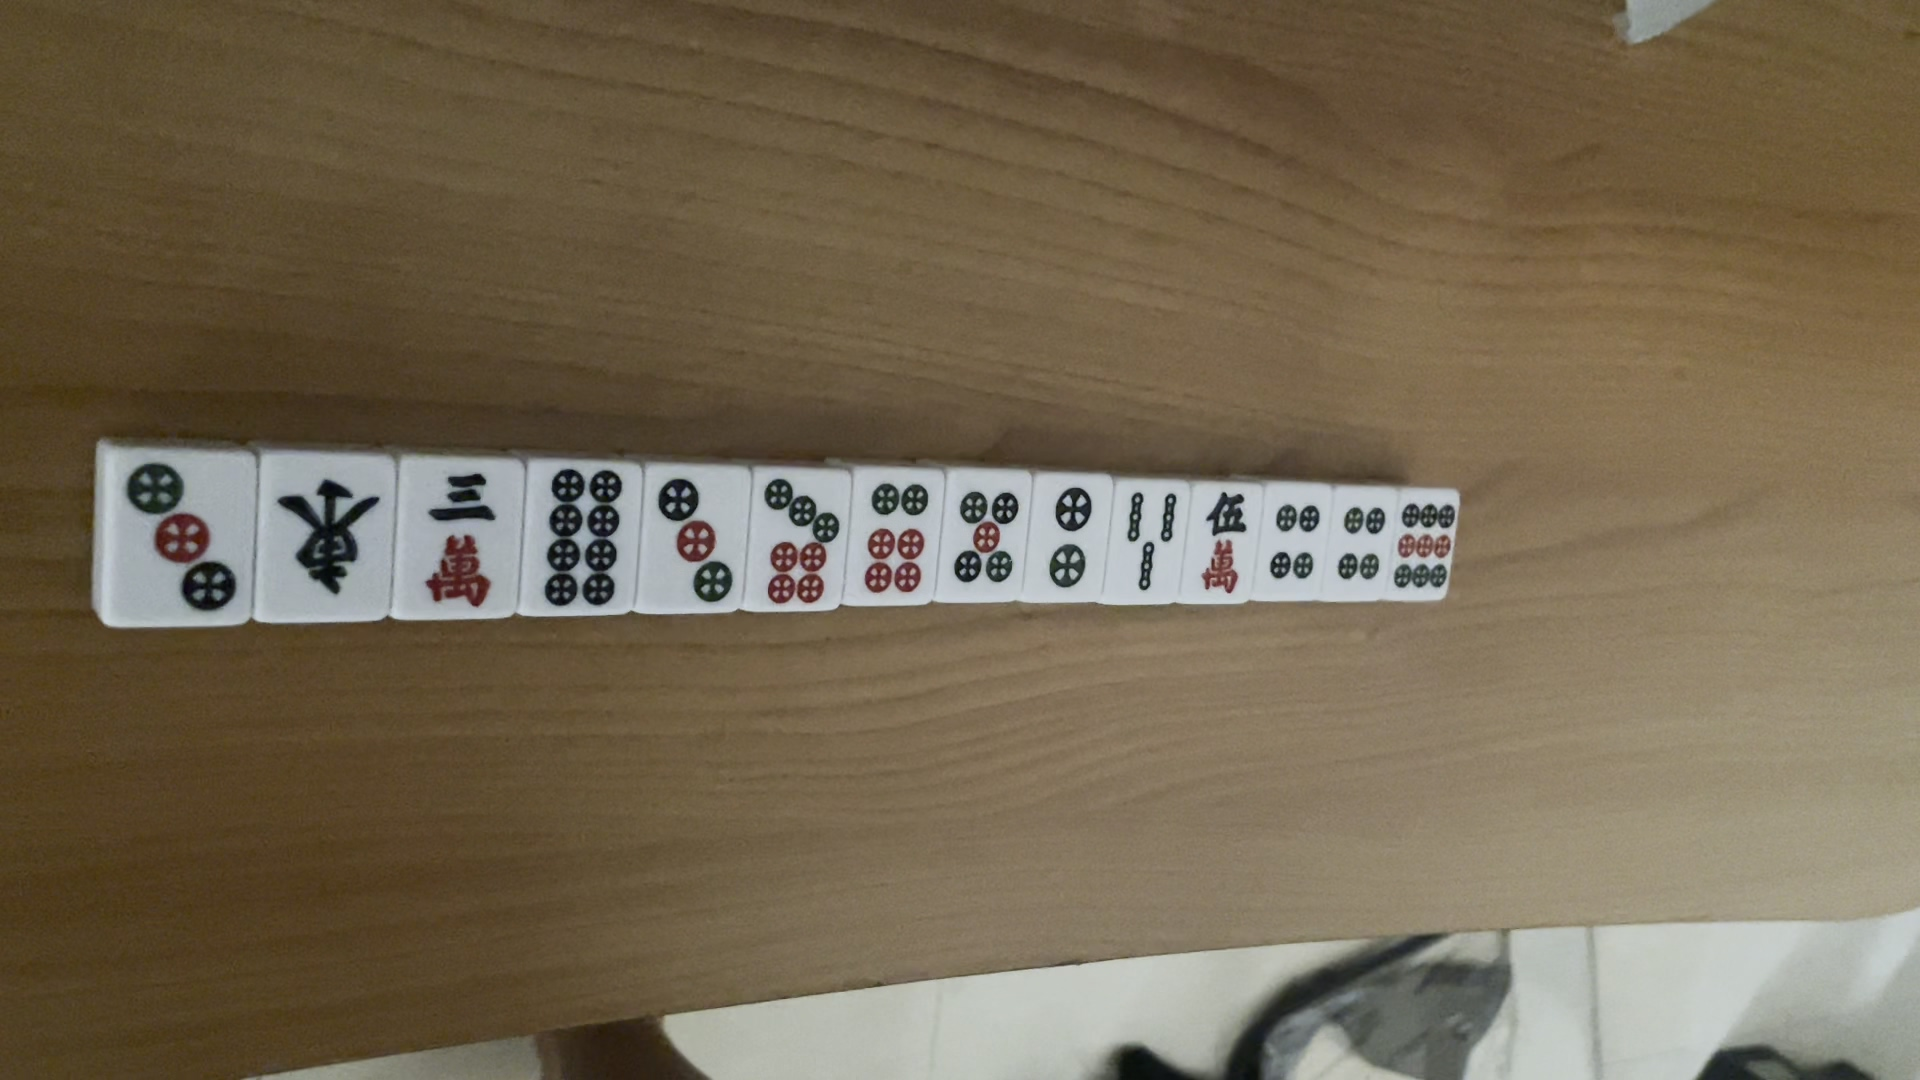b-3: (1122, 483, 1177, 595)
c-3: (413, 464, 500, 609)
c-5: (1193, 488, 1252, 599)
d-2: (1036, 482, 1096, 591)
d-3: (122, 456, 238, 617), (652, 475, 736, 606)
d-4: (1265, 501, 1325, 586), (1336, 505, 1387, 582)
d-5: (949, 483, 1020, 589)
d-6: (864, 483, 928, 601)
d-7: (758, 477, 839, 606)
d-8: (535, 462, 622, 608)
d-9: (1393, 501, 1455, 593)
honors-east: (267, 477, 389, 602)
